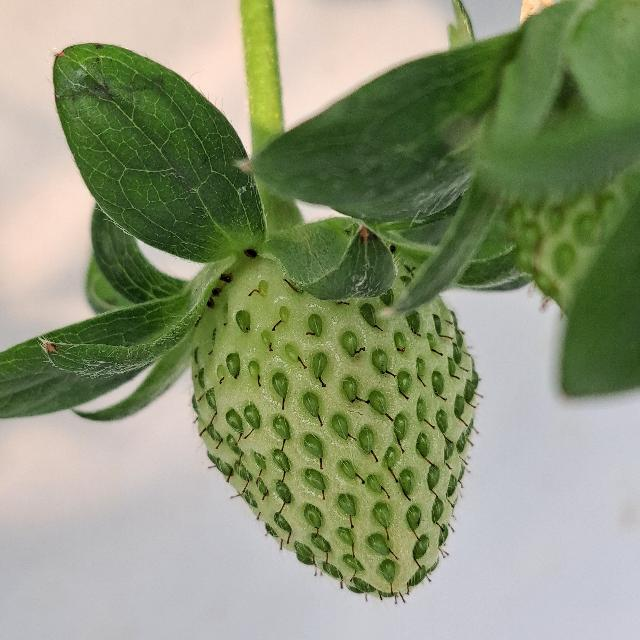Health_25: (192, 259, 476, 597)
